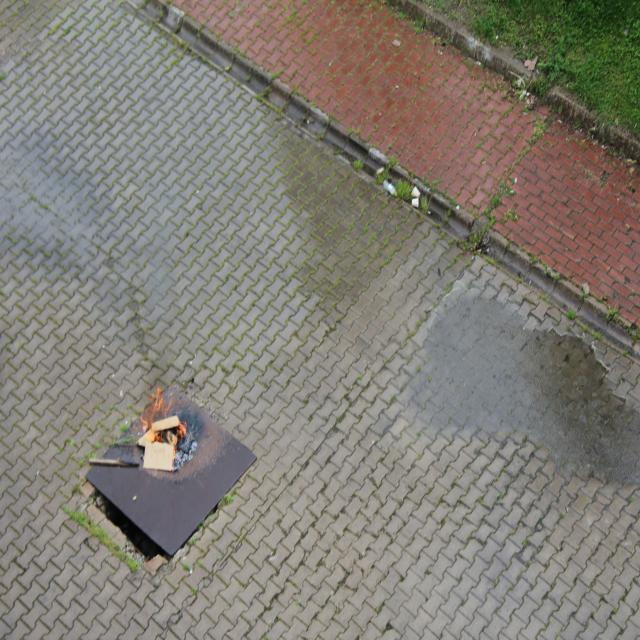fire: (141, 385, 186, 445)
